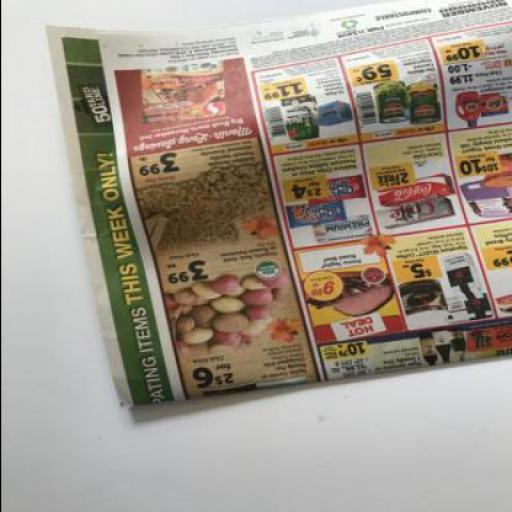paper: (44, 0, 510, 407)
